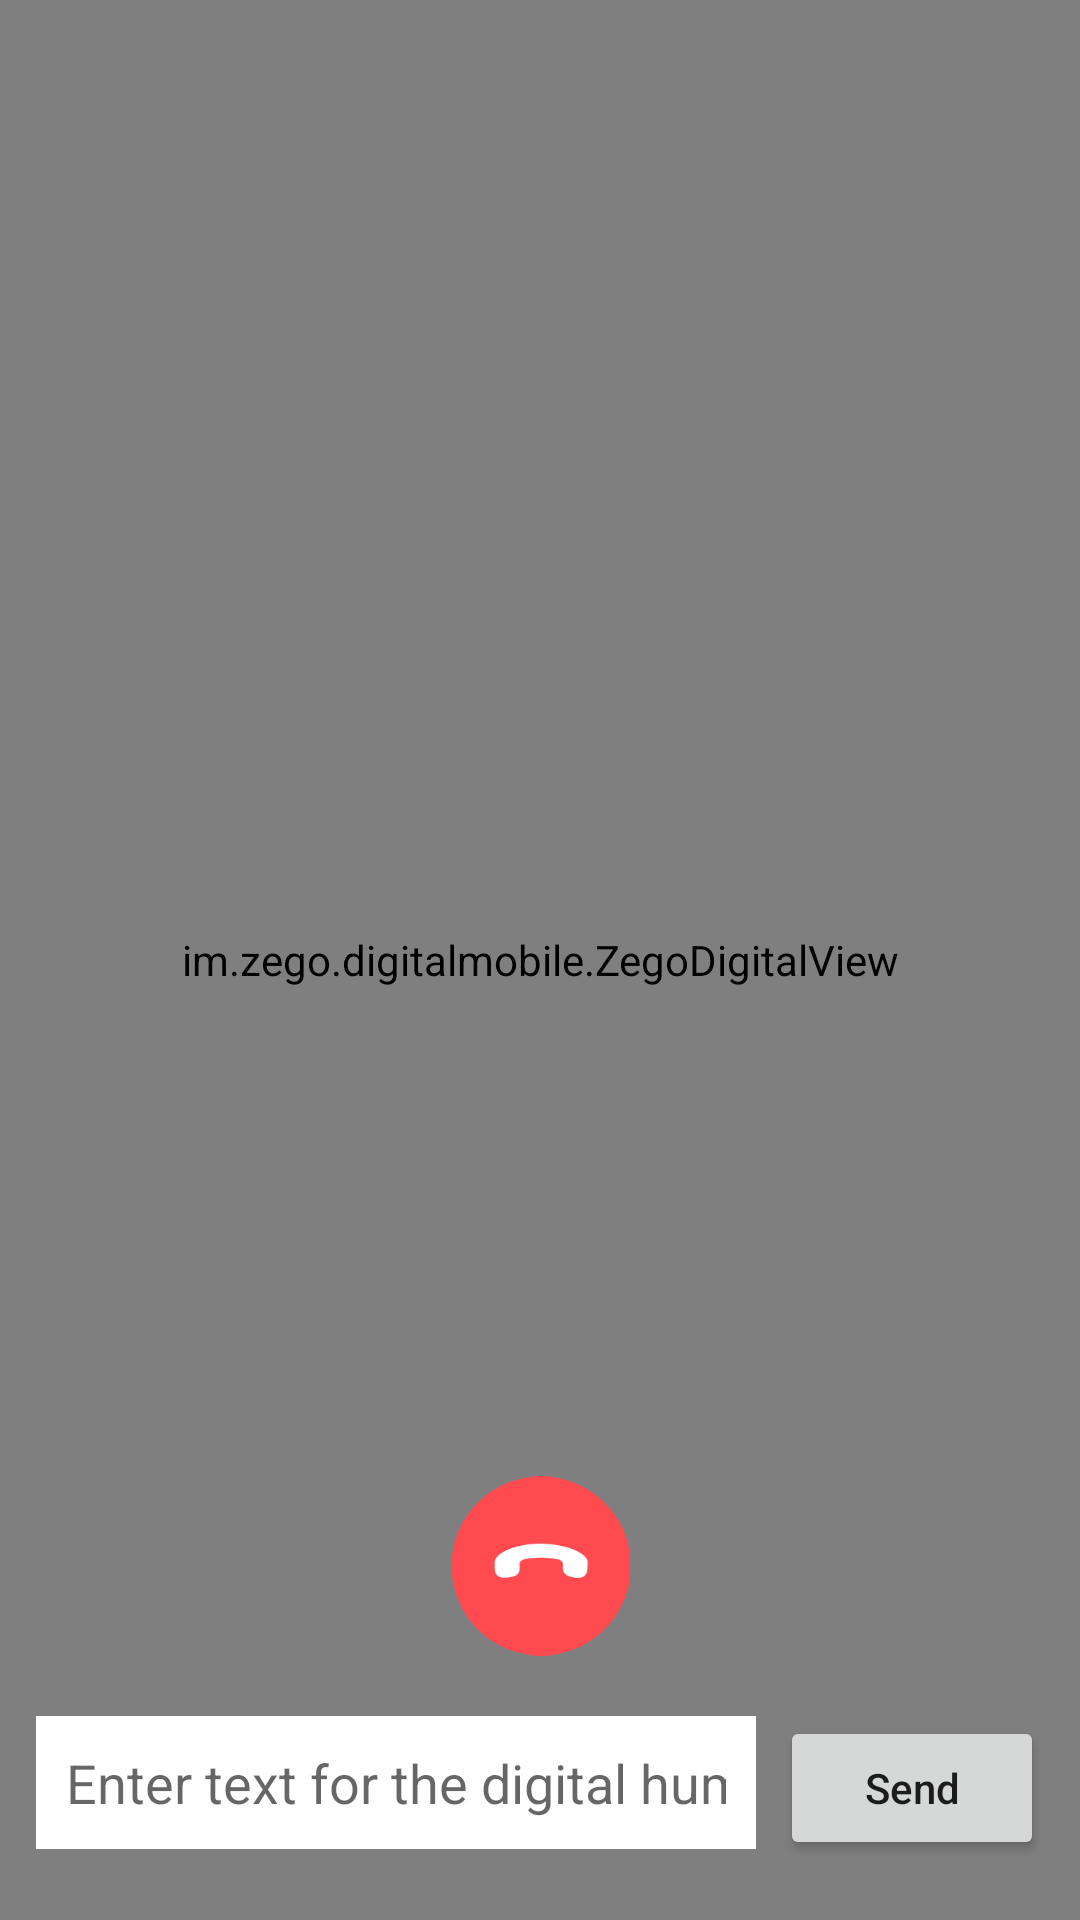

Where to tap for icons on this 1080*1920 app screen, as point (x, y):
hangup: point (540, 1566)
